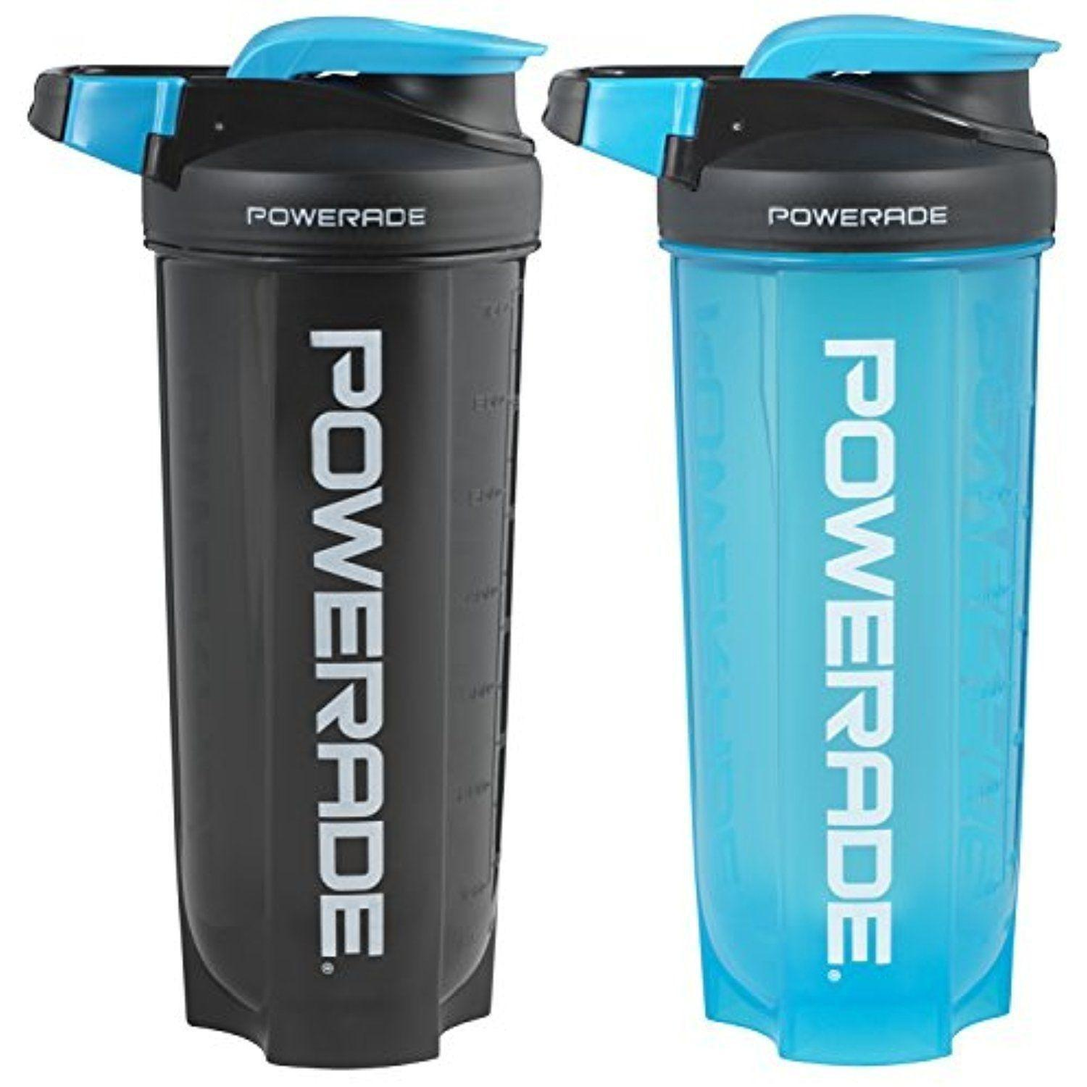gym bottle: (18, 4, 543, 1069), (540, 9, 1059, 1064)
